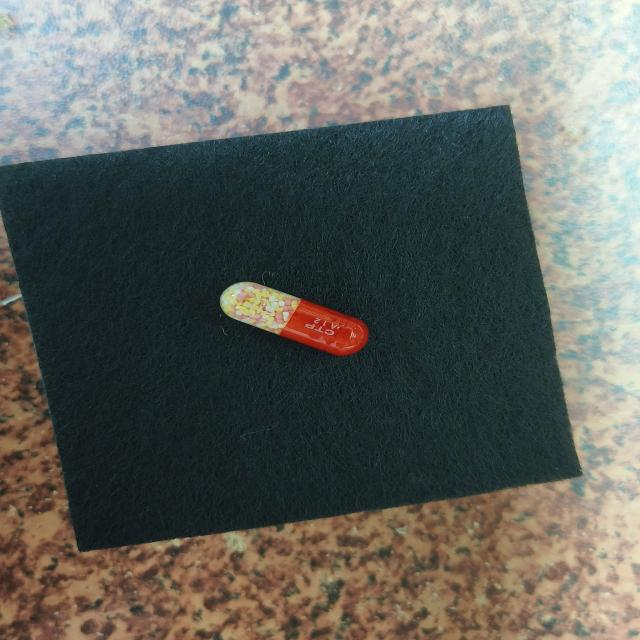Intact Capsule: (220, 282, 369, 356)
